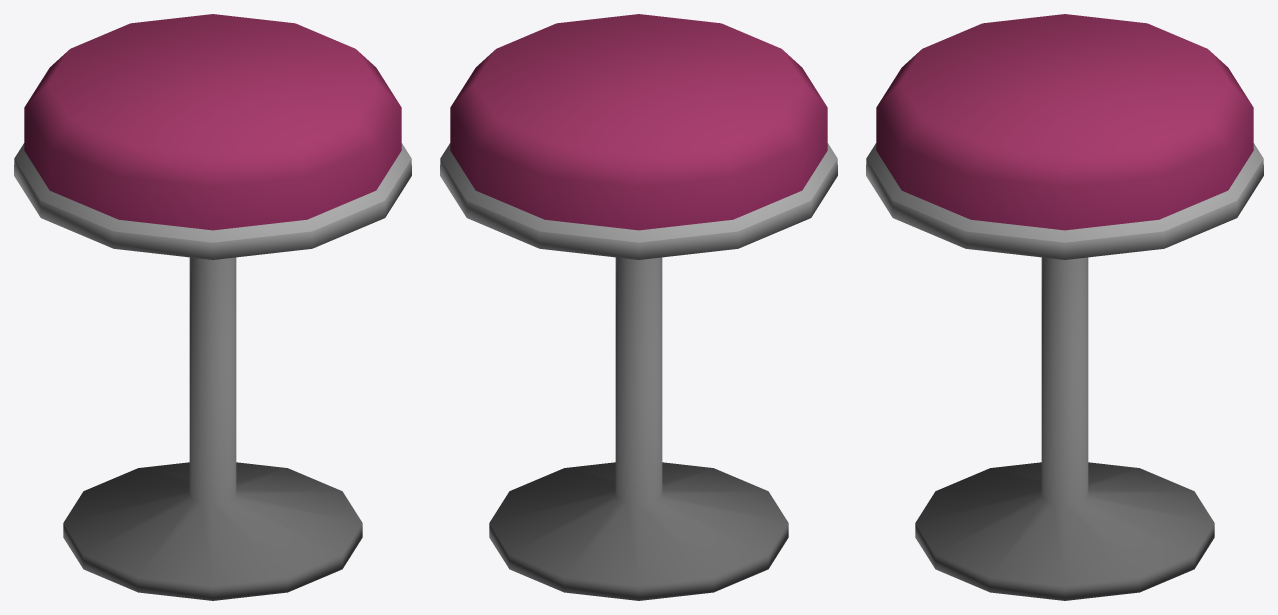
The model's file is Stool.fbx.
3 views of the same model, side by side, from view 1: azimuth 30°, elevation 25°; view 2: azimuth 150°, elevation 25°; view 3: azimuth 270°, elevation 25° (orthographic).
Parts seen in each view (by area): view 1: Circle.017; view 2: Circle.017; view 3: Circle.017.
Part boxes in pixels (x1,y1,x2,y2): Circle.017: [14, 14, 411, 600]; Circle.017: [440, 14, 837, 600]; Circle.017: [866, 14, 1263, 600].
Bounding box in the file's own units: 72.66 × 91.54 × 72.66.
